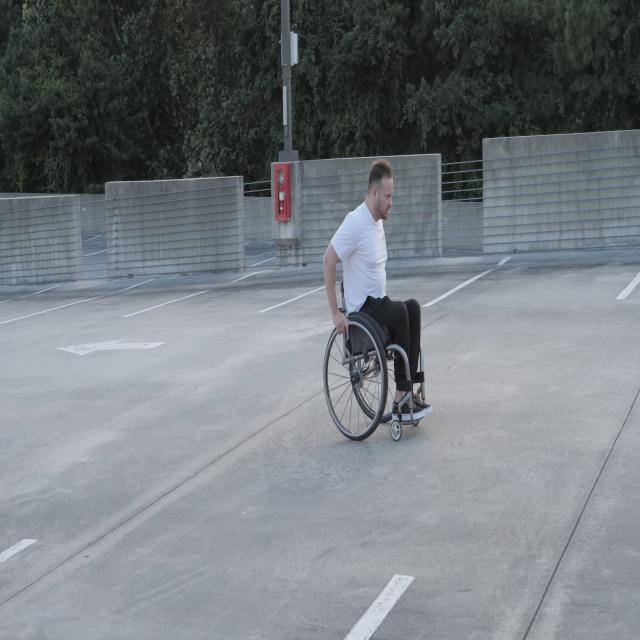wheelchairs: (324, 275, 426, 443)
